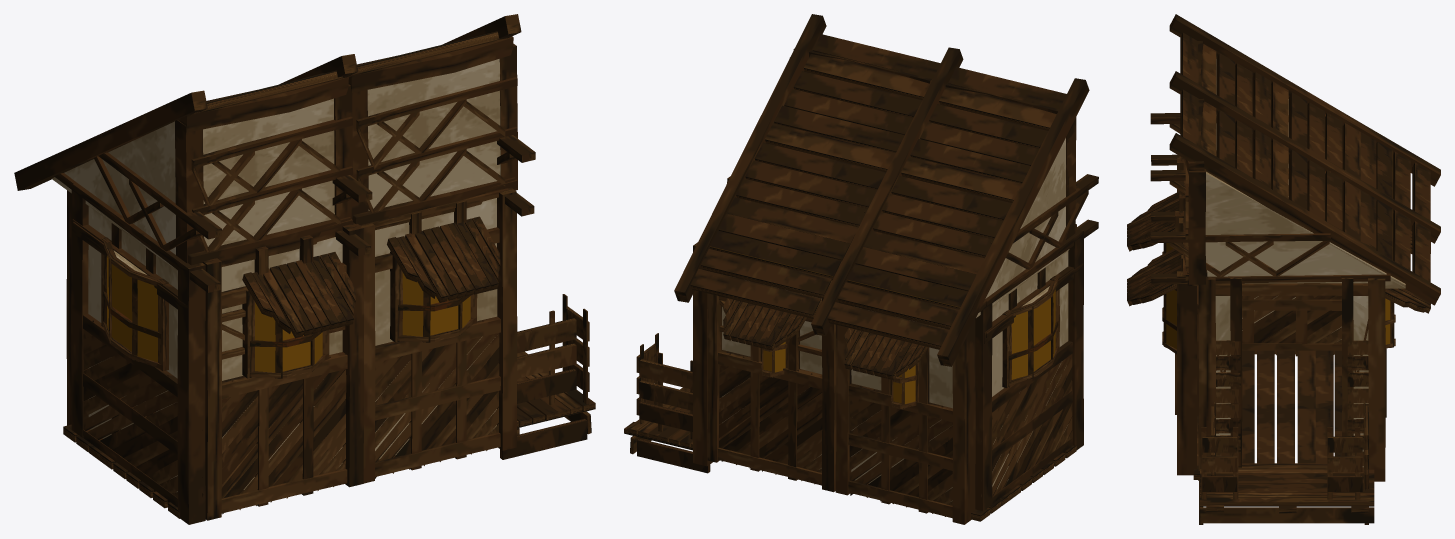
Rendered from cabin2-col.glb.
3 renders of one model, left to right at view 1: azimuth 30°, elevation 25°; view 2: azimuth 150°, elevation 25°; view 3: azimuth 270°, elevation 25°, orthographic. The views are drawn at different scales.
Parts seen in each view (by area): view 1: cabin2-col; view 2: cabin2-col; view 3: cabin2-col.
Part boxes in pixels (<box>): cabin2-col: <box>14,14,595,524</box>; cabin2-col: <box>624,14,1098,524</box>; cabin2-col: <box>1127,14,1440,524</box>.
Size of the model in its own units: 5.3 by 5.3 by 4.24.
Materials: 1 (1 with a texture image).
